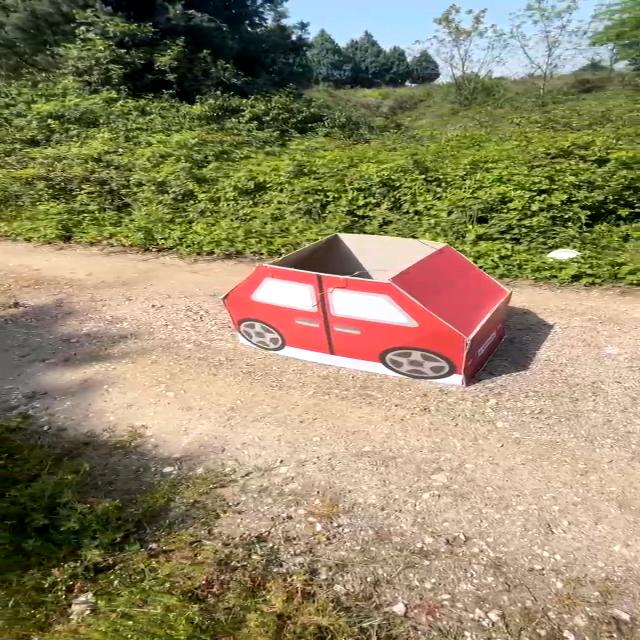red_car: (210, 225, 549, 402)
